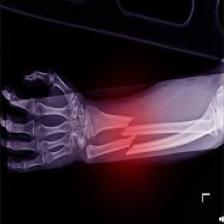open-compound-fracture: (0, 66, 224, 171)
